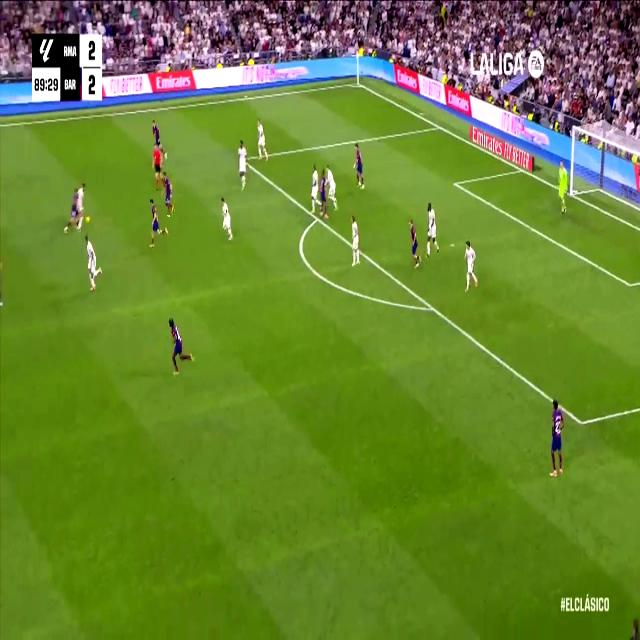bigarea_bottom_inner: (576, 407, 588, 437)
bigarea_top_outter: (434, 118, 442, 134)
bottom_arc_area_intersection: (426, 296, 438, 318)
corner: (353, 77, 363, 89)
smallarea_bottom_inner: (625, 274, 635, 296)
smallarea_top_inner: (452, 176, 459, 190)
top_arc_area_intersection: (312, 209, 322, 227)
